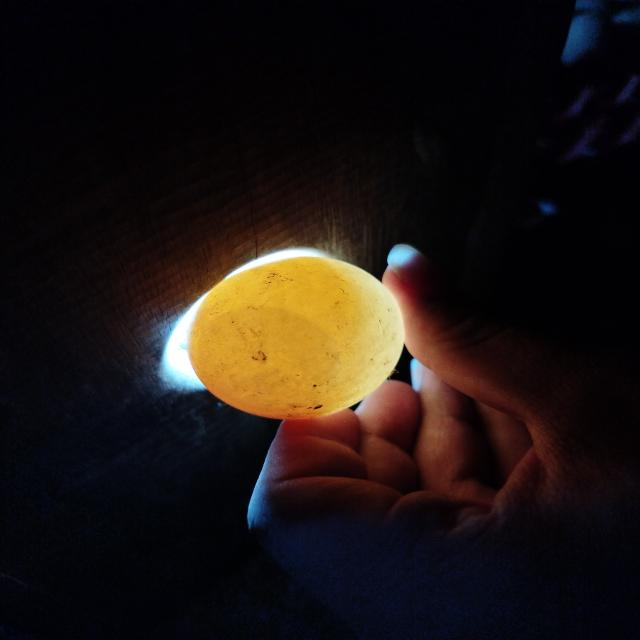Camara de Ar: (196, 307, 339, 407)
